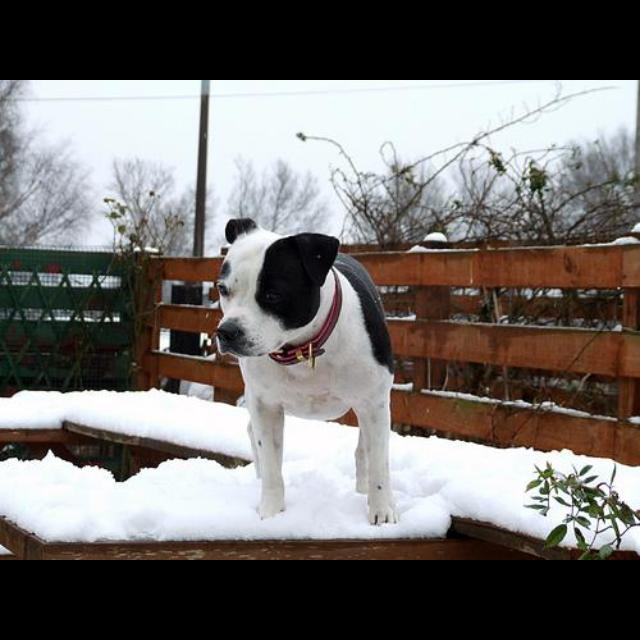staffford: (214, 218, 399, 527)
